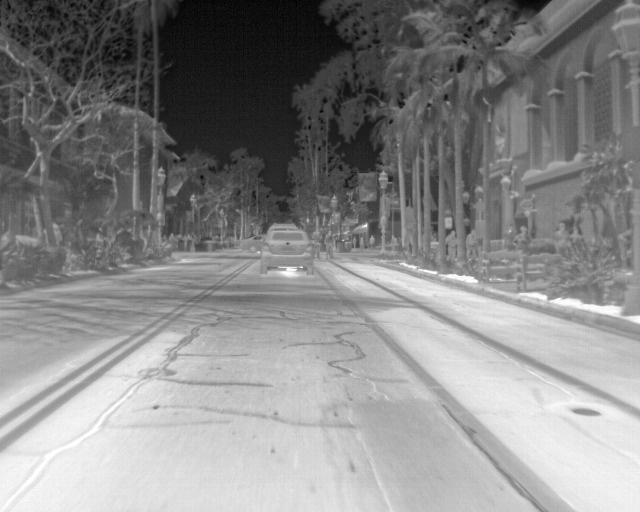bicycle: (259, 228, 316, 274), (240, 233, 266, 253)
empty: (443, 229, 458, 259), (510, 225, 528, 249), (464, 229, 478, 259), (323, 230, 334, 259), (553, 222, 567, 242), (350, 233, 359, 251), (367, 233, 378, 247)
